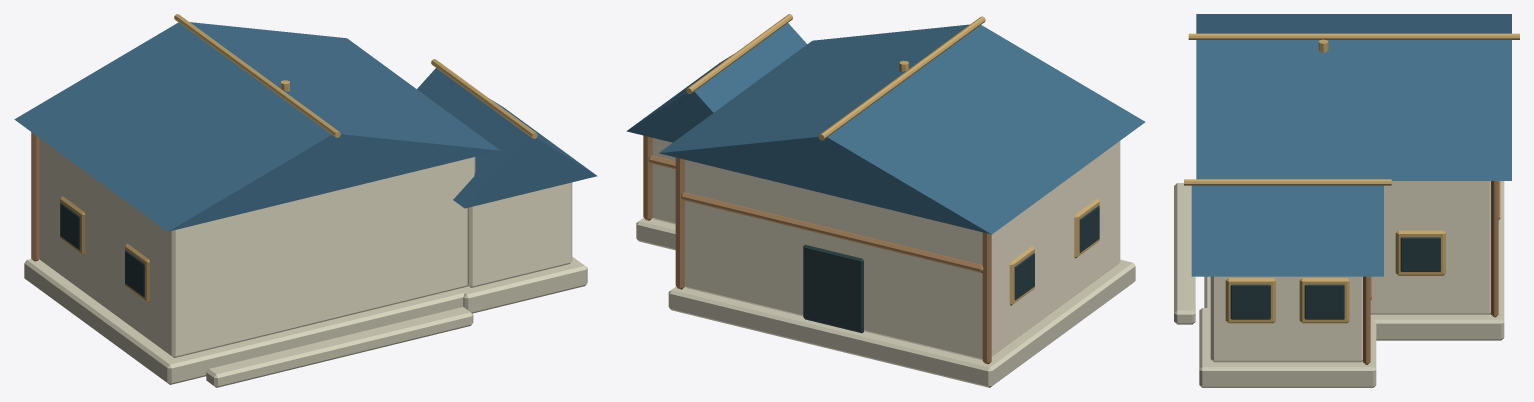
Rendered from level_09.glb.
3 views of the same model, side by side, from view 1: azimuth 30°, elevation 25°; view 2: azimuth 150°, elevation 25°; view 3: azimuth 270°, elevation 25° (orthographic). The views are drawn at different scales.
Visible parts, largest first — view 1: warehouse — level 09; view 2: warehouse — level 09; view 3: warehouse — level 09.
Boxes of the visible parts, x1,y1,x2,y2 form: warehouse — level 09: [14, 14, 597, 387]; warehouse — level 09: [626, 14, 1145, 387]; warehouse — level 09: [1174, 14, 1519, 387].
Size of the model in its own units: 6.59 by 3.26 by 4.49.
